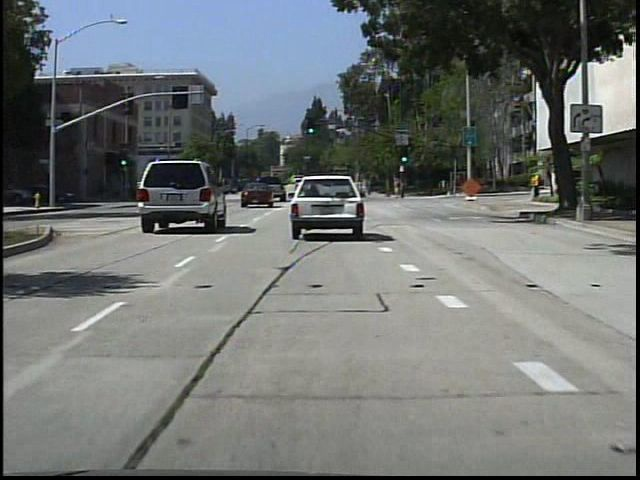person: (394, 173, 408, 203)
